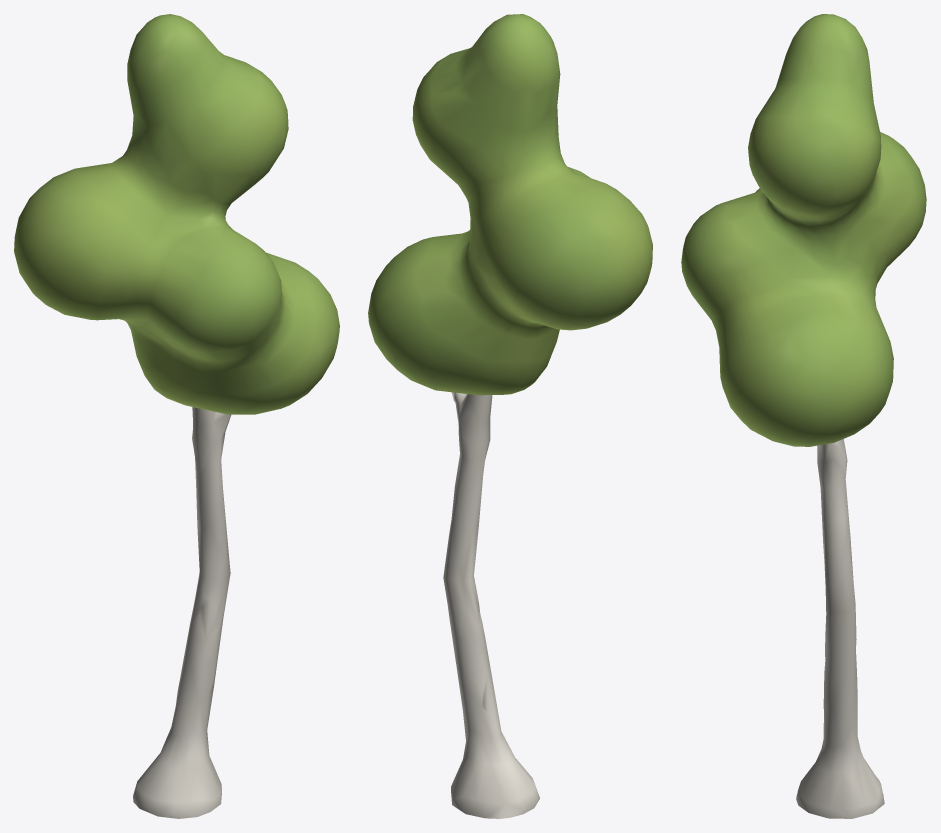
Rendered from birch2.glb.
The picture shows the model from 3 angles, left to right: view 1: azimuth 30°, elevation 25°; view 2: azimuth 150°, elevation 25°; view 3: azimuth 270°, elevation 25°; orthographic projection.
Parts seen in each view (by area): view 1: birch_crown_young, body; view 2: birch_crown_young, body; view 3: birch_crown_young, body.
Part boxes in pixels (x1,y1,x2,y2): birch_crown_young: (14,14,339,414); body: (133,407,231,818); birch_crown_young: (368,14,652,395); body: (443,392,539,818); birch_crown_young: (681,14,926,446); body: (796,439,884,818).
Size of the model in its own units: 1.92 by 5.1 by 1.46.
